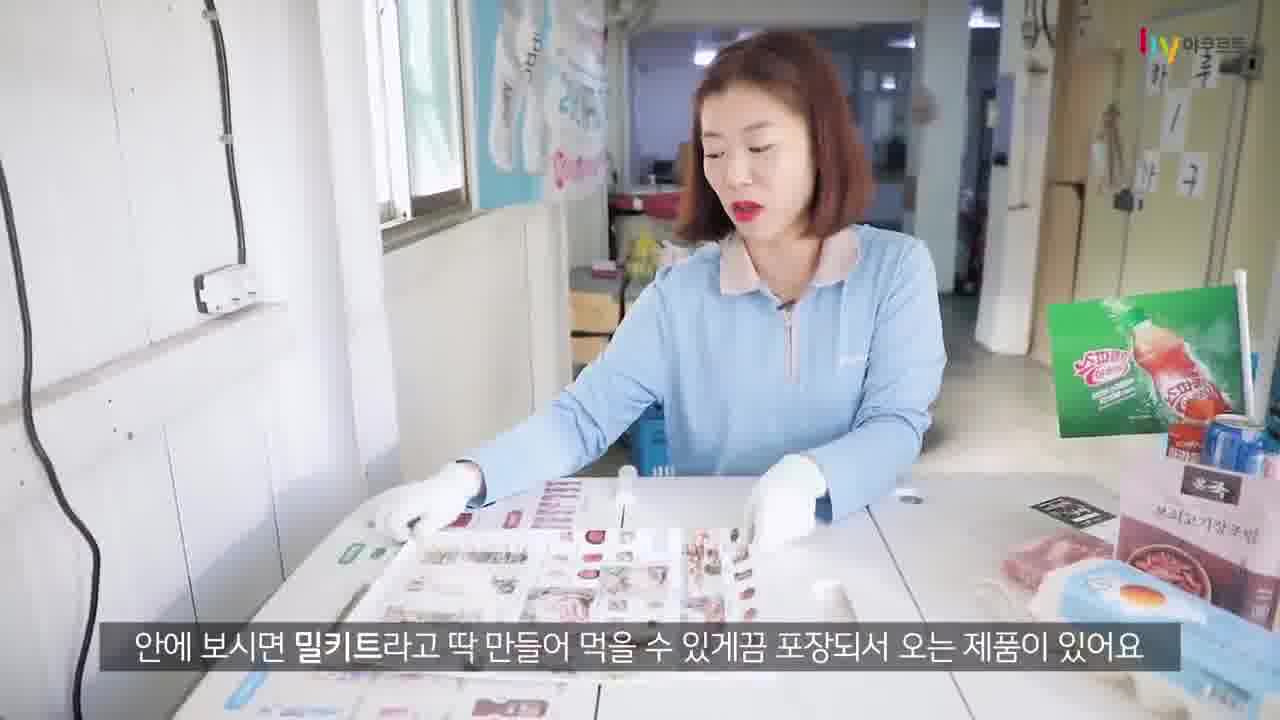Yakurut: (295, 28, 960, 554)
